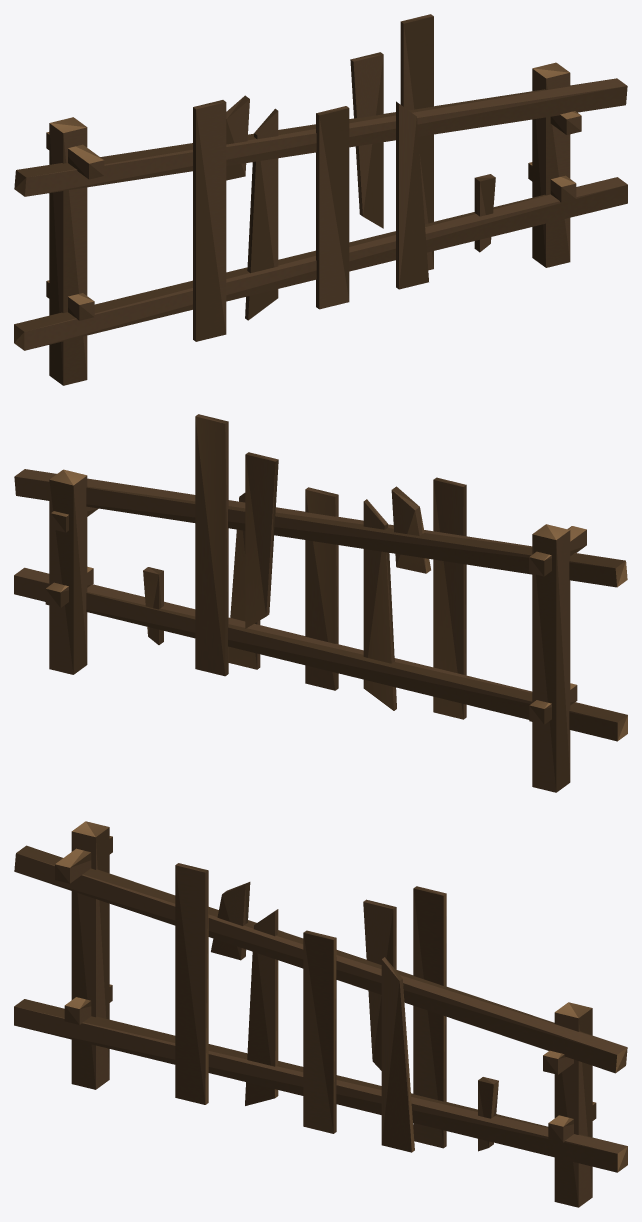
File: Wood_12A_Lod1.fbx
The picture shows the model from 3 angles, top to bottom: view 1: azimuth 30°, elevation 25°; view 2: azimuth 150°, elevation 25°; view 3: azimuth 330°, elevation 25°; orthographic projection.
Parts seen in each view (by area): view 1: polySurface1104; view 2: polySurface1104; view 3: polySurface1104.
Part boxes in pixels (bbox=[...]): polySurface1104: bbox=[14, 14, 627, 385]; polySurface1104: bbox=[14, 414, 627, 792]; polySurface1104: bbox=[14, 821, 627, 1207].
Bounding box in the file's own units: 1000 × 441 × 125.
Materials: 1 (1 with a texture image).
